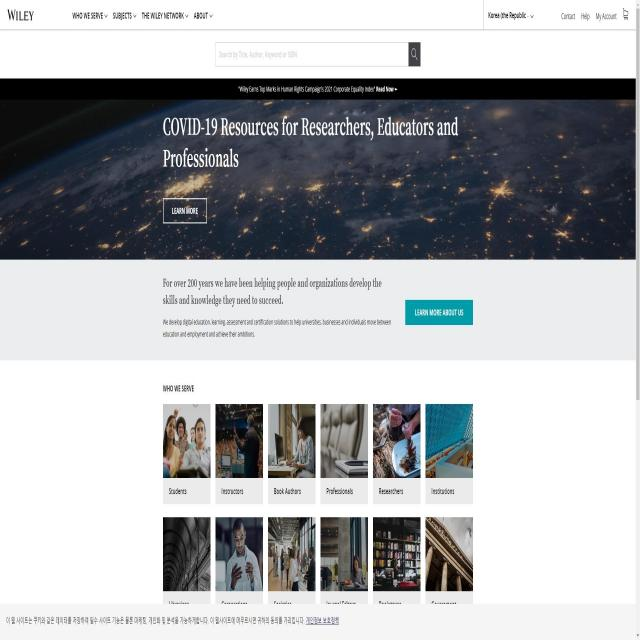button: (405, 300, 473, 325), (408, 42, 421, 67)
input: (214, 42, 408, 68)
select: (486, 5, 535, 26), (140, 5, 190, 24), (71, 7, 110, 24), (111, 6, 138, 24), (192, 4, 214, 23)
